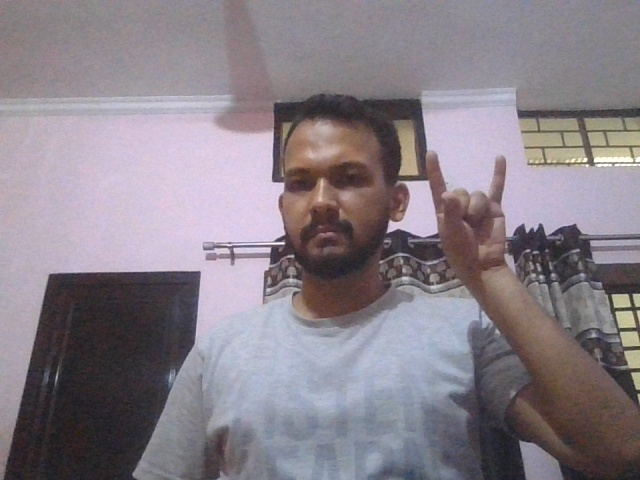iloveyou: (423, 150, 508, 277)
